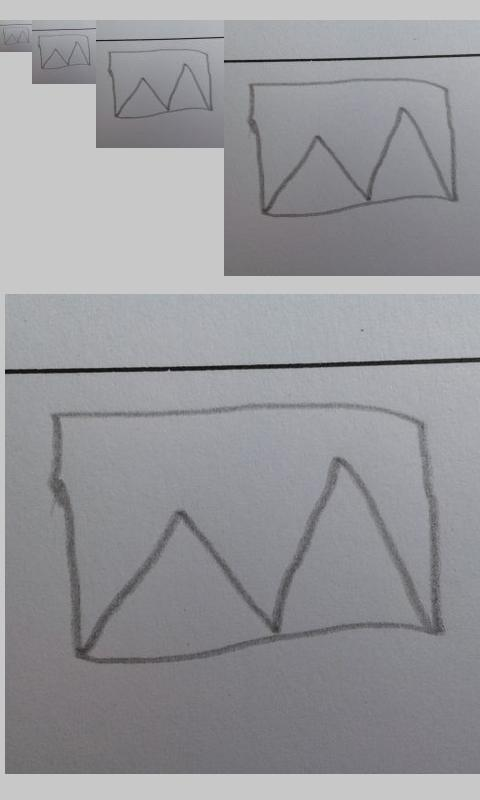image_view: (51, 400, 444, 666), (248, 75, 459, 220), (108, 48, 213, 119), (37, 34, 92, 70), (2, 26, 31, 46)
